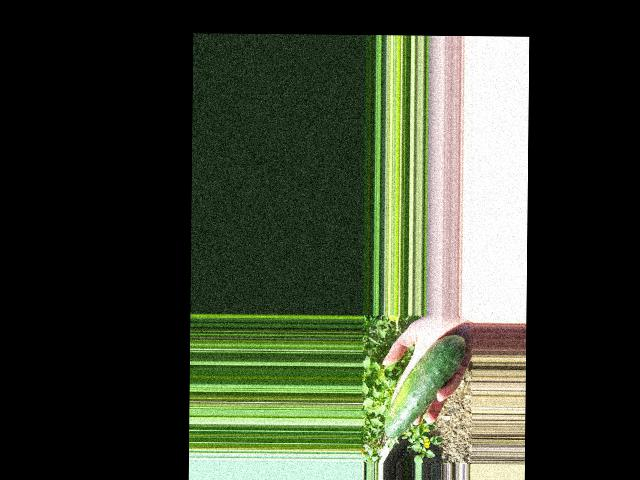cucumber: (384, 334, 465, 439)
